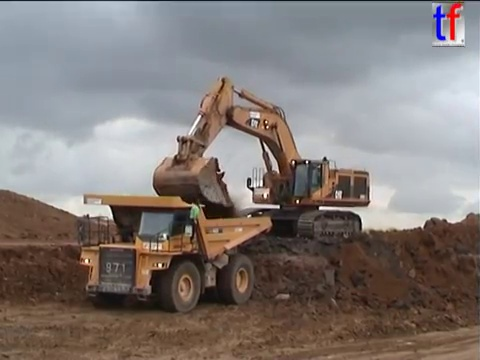excavator: (149, 73, 373, 247)
truck: (75, 191, 274, 314)
worker: (185, 196, 205, 244)
